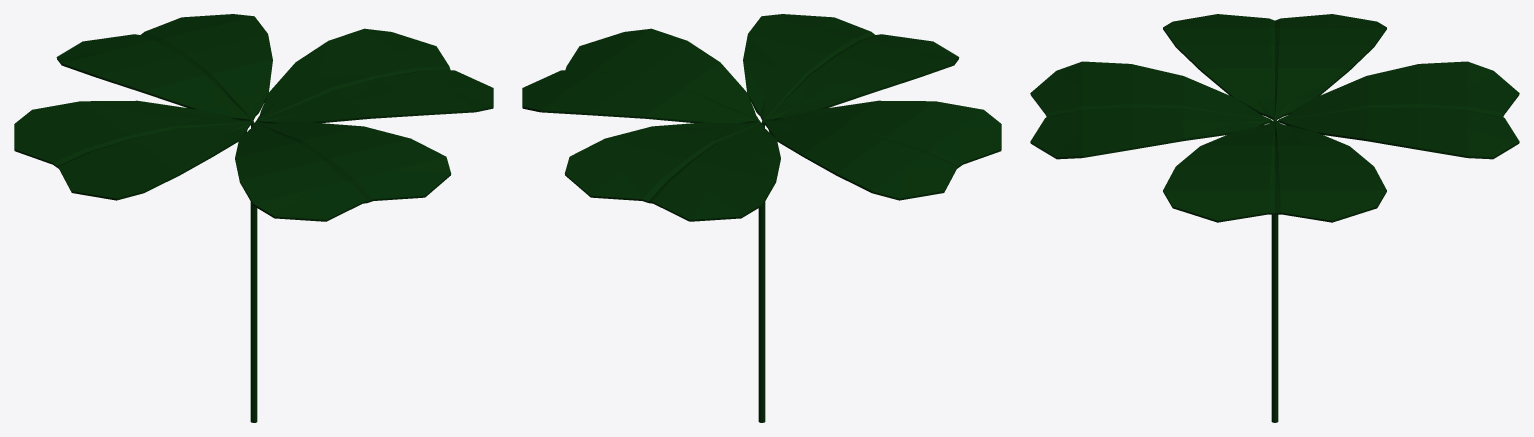
File: clover.obj
The picture shows the model from 3 angles, left to right: view 1: azimuth 30°, elevation 25°; view 2: azimuth 150°, elevation 25°; view 3: azimuth 270°, elevation 25°; orthographic projection.
Bounding box in the file's own units: 2.2 × 1.56 × 2.2.
